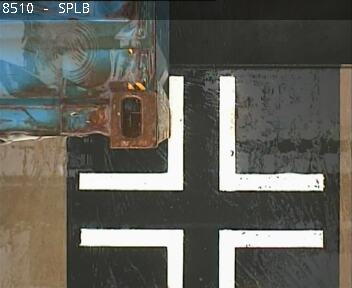groundmarker_1: (77, 76, 322, 191), (80, 227, 324, 288)
